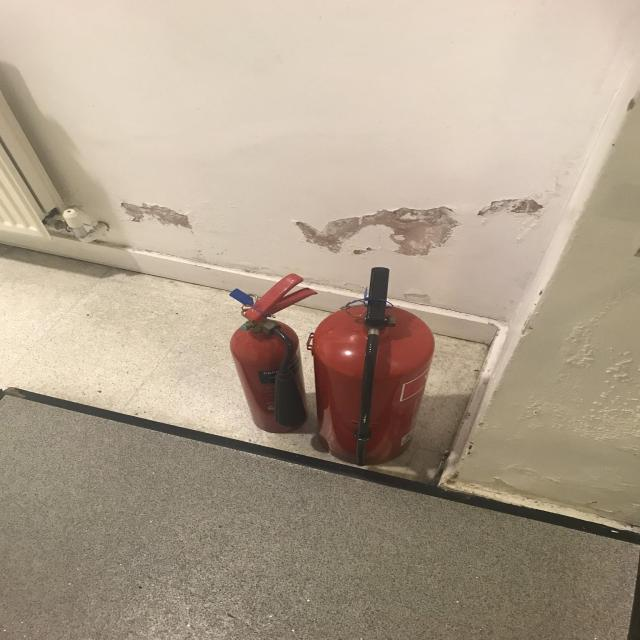fire_extinguisher: (305, 263, 440, 469), (223, 272, 322, 436)
